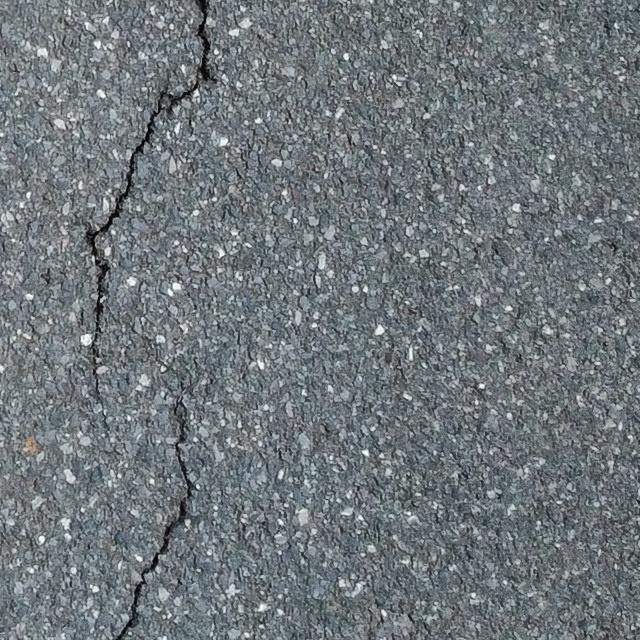LongitudinalCrack: (85, 1, 214, 404), (114, 400, 194, 640)
